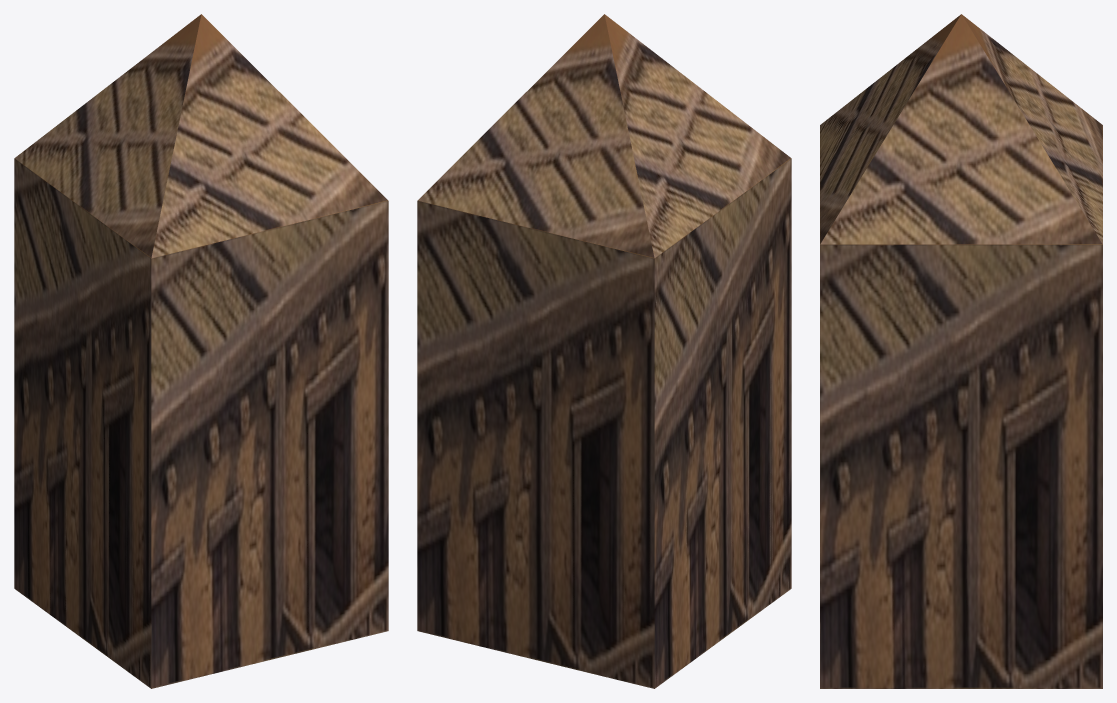
Rendered from Building_Grenier.obj.
3 views of the same model, side by side, from view 1: azimuth 30°, elevation 25°; view 2: azimuth 150°, elevation 25°; view 3: azimuth 270°, elevation 25° (orthographic). The views are drawn at different scales.
Bounding box in the file's own units: 0.75 × 1.8 × 0.75.
Materials: 2 (2 with a texture image).
